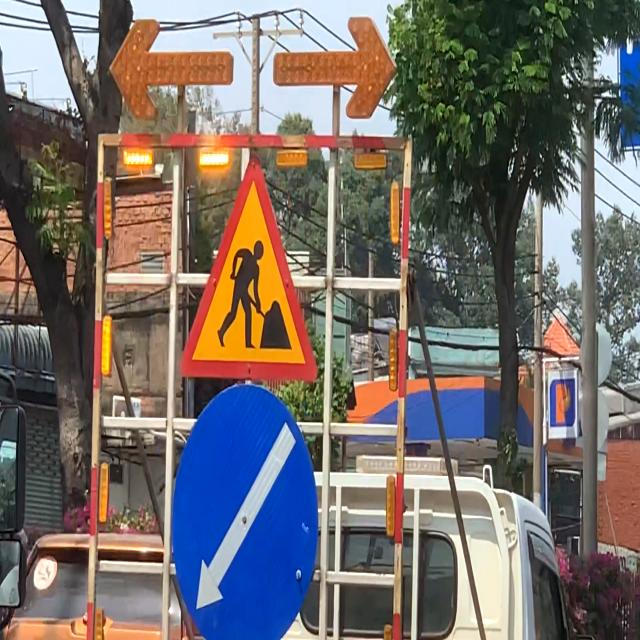R.302b: (169, 386, 317, 640)
